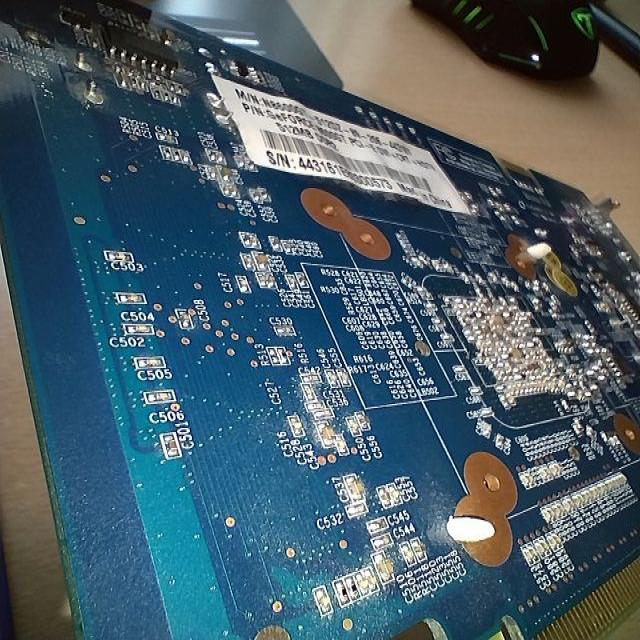capacitor: (169, 300, 202, 345), (98, 244, 142, 268), (514, 536, 540, 576), (234, 266, 257, 306), (393, 532, 417, 570), (115, 284, 152, 308), (413, 531, 437, 567), (132, 352, 174, 372), (334, 502, 371, 524), (121, 320, 162, 338), (143, 390, 184, 406)
